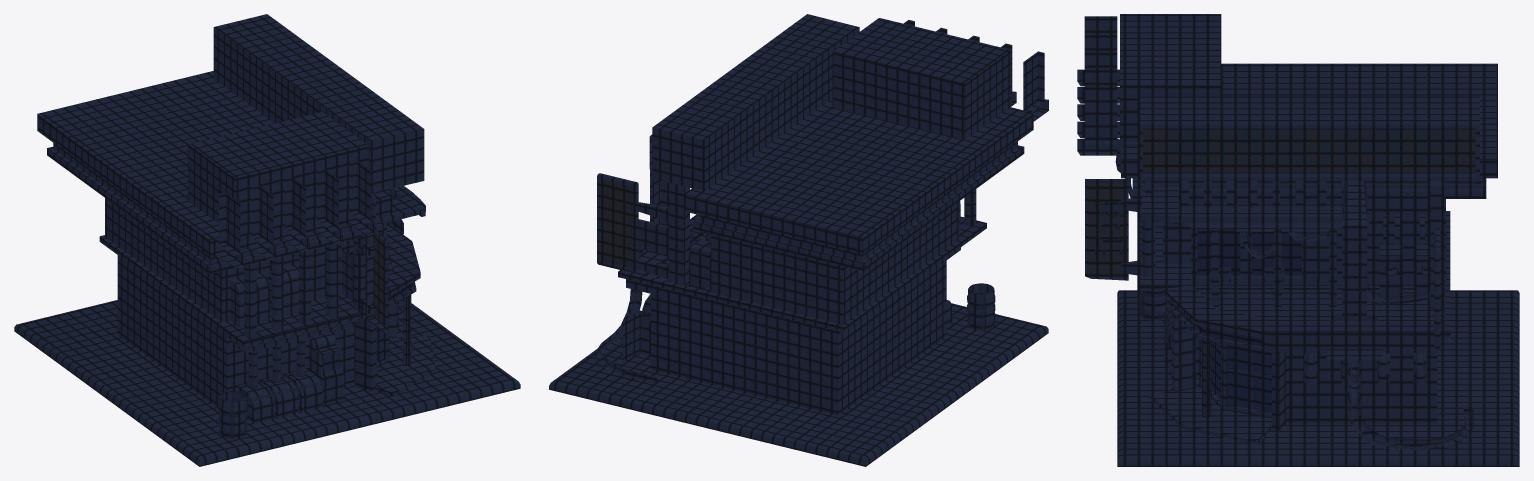
File: Resteraunt.glb
3 renders of one model, left to right at view 1: azimuth 30°, elevation 25°; view 2: azimuth 150°, elevation 25°; view 3: azimuth 270°, elevation 25°, orthographic. The views are drawn at different scales.
Visible parts, largest first — view 1: Plane, Circle; view 2: Plane; view 3: Plane, Text, Circle, Text.001.
Boxes of the visible parts, x1=… form: Plane: x1=14, y1=14, x2=520, y2=466; Circle: x1=244, y1=237, x2=365, y2=337; Plane: x1=549, y1=14, x2=1048, y2=466; Plane: x1=1077, y1=14, x2=1519, y2=466; Text: x1=1168, y1=128, x2=1457, y2=167; Circle: x1=1141, y1=220, x2=1155, y2=277; Text.001: x1=1095, y1=201, x2=1124, y2=257.
Bounding box in the file's own units: 60.02 × 49.8 × 65.97.
5 materials, 5 textured.
